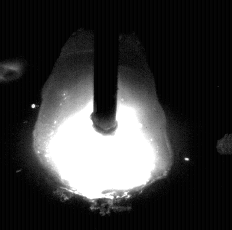arame: (94, 0, 118, 135)
poca: (32, 0, 170, 230)
